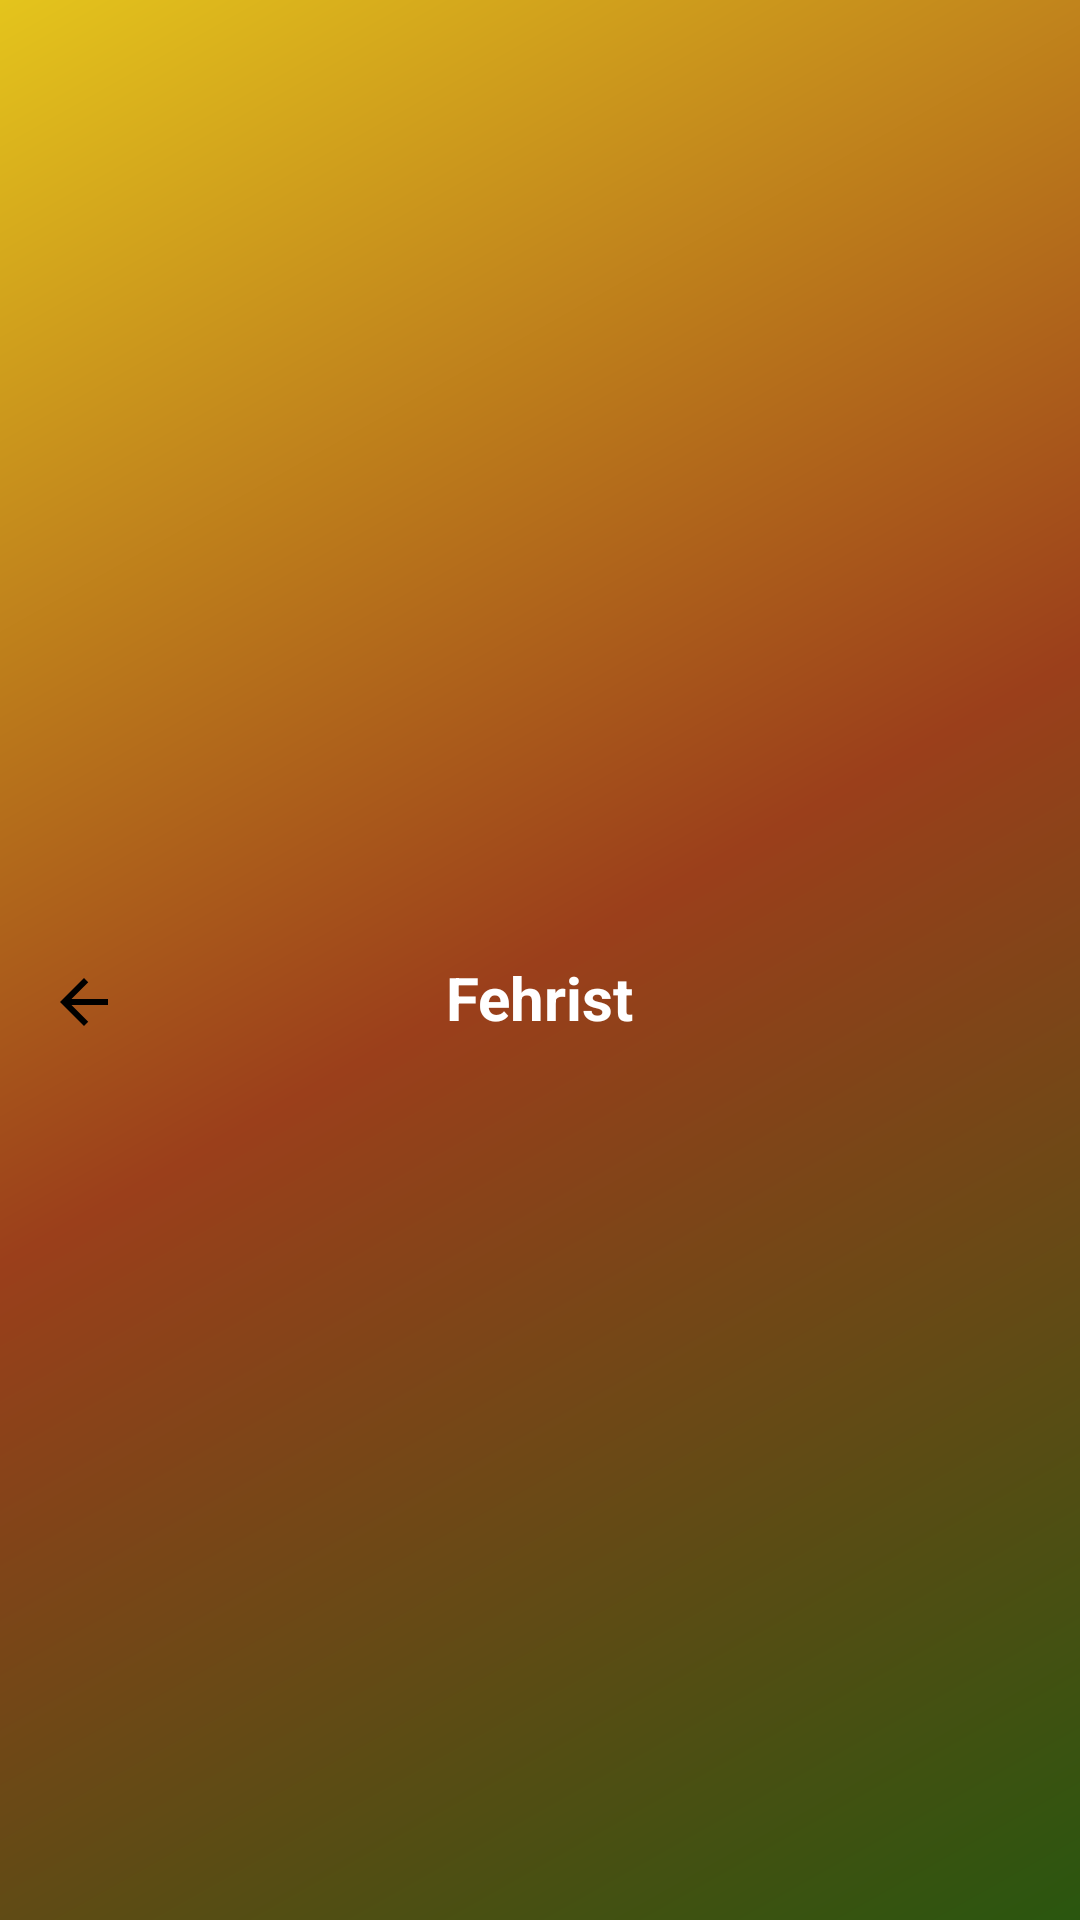

Icons on this 1080 × 1920 Android screen, each with the point to tap as (x,y):
arrow back: (84,1002)
